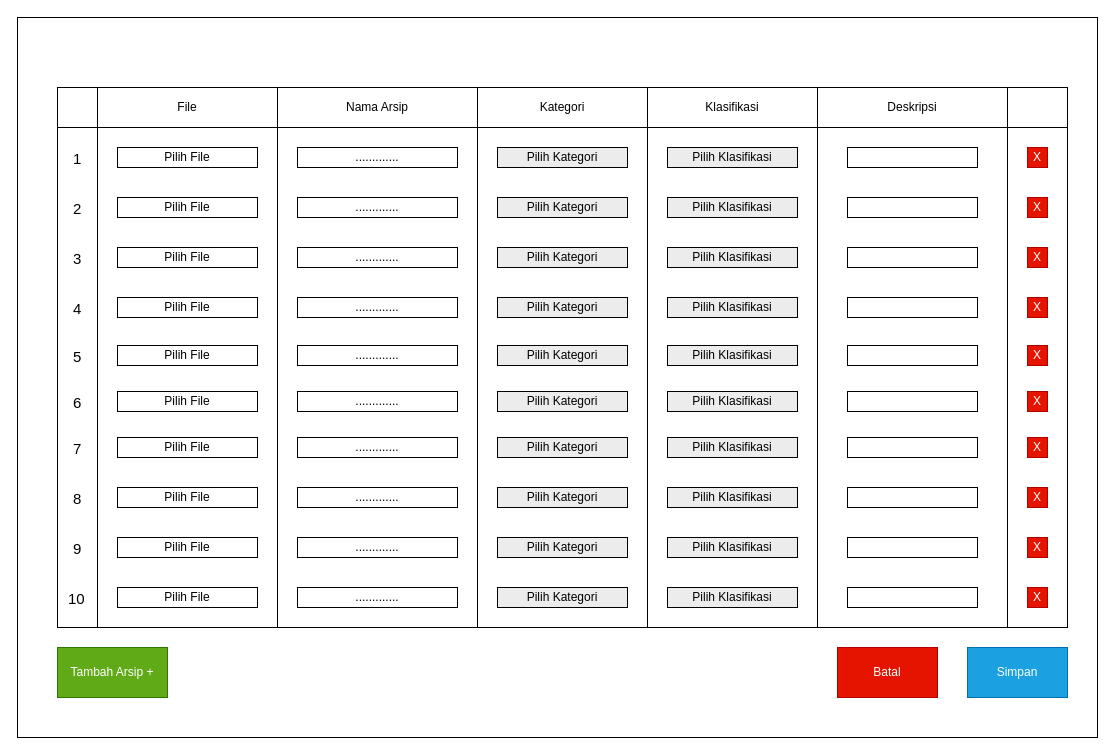
This 1115x755 diagram has some shape labels left out. The shapes that lost their labels are listed below. From the top down, each one's centre as x and y in pixels, then its label:
At (x=77, y=107): "No".
At (x=1037, y=107): "Hapus".
